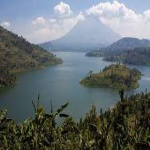Lake: (2, 61, 113, 131), (46, 44, 114, 75)
